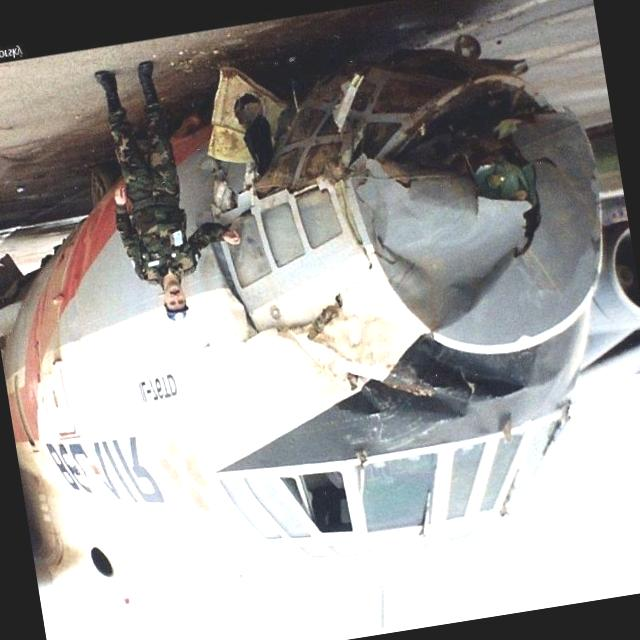dent: (340, 344, 502, 434)
